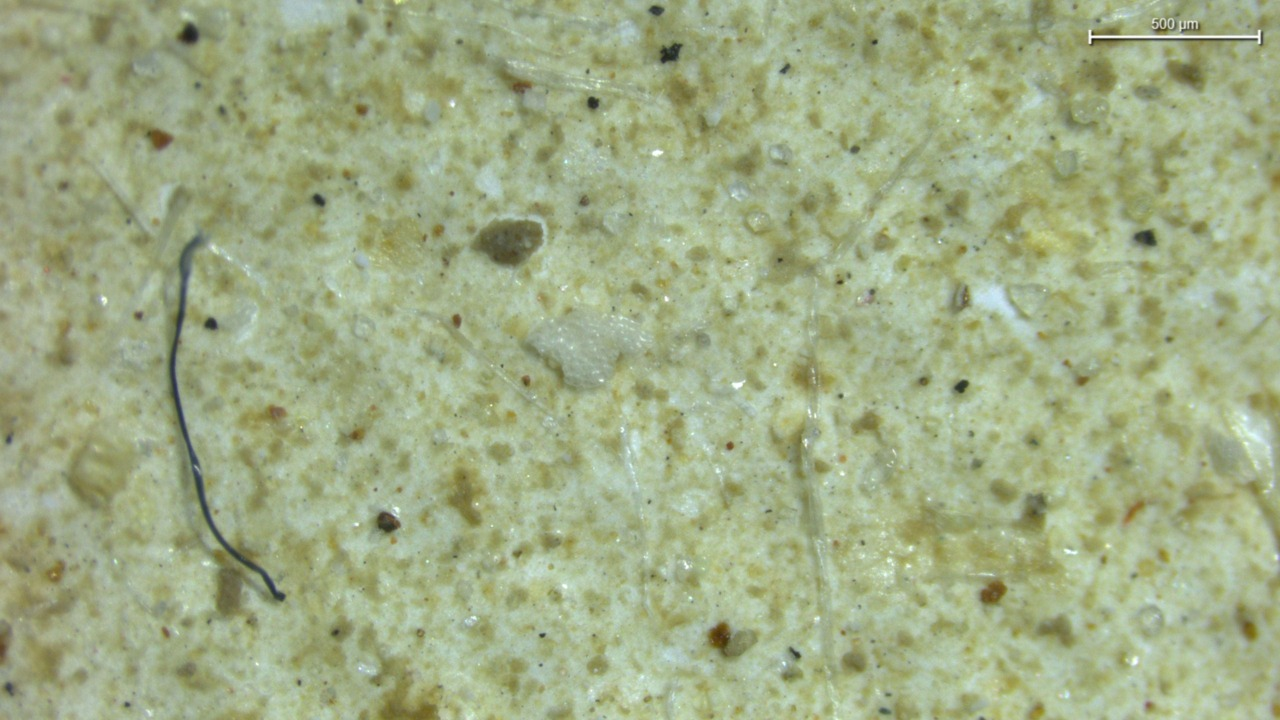microplastic_fragment: (527, 310, 653, 388)
